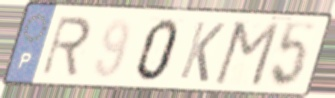0: (134, 16, 182, 83)
5: (269, 20, 319, 91)
9: (92, 16, 135, 80)
K: (176, 19, 228, 85)
M: (210, 19, 282, 89)
R: (39, 15, 94, 79)
